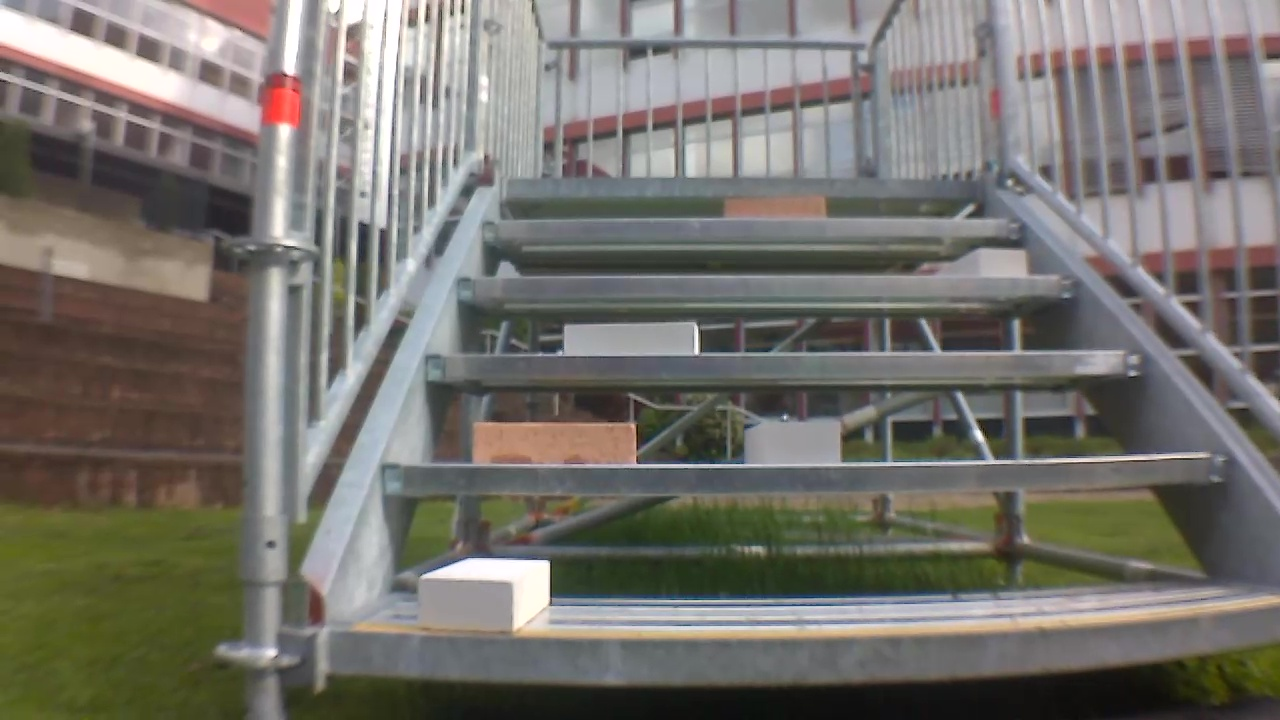brick: (417, 559, 549, 633), (474, 422, 635, 464), (565, 322, 699, 355), (744, 421, 839, 464), (724, 196, 824, 217), (954, 247, 1026, 274)
edge: (336, 606, 1279, 685), (383, 454, 1237, 492), (422, 351, 1148, 377), (457, 272, 1073, 295), (483, 217, 1023, 237), (504, 178, 982, 195)
stairs: (232, 1, 1280, 713)
steps: (324, 170, 1280, 696)
